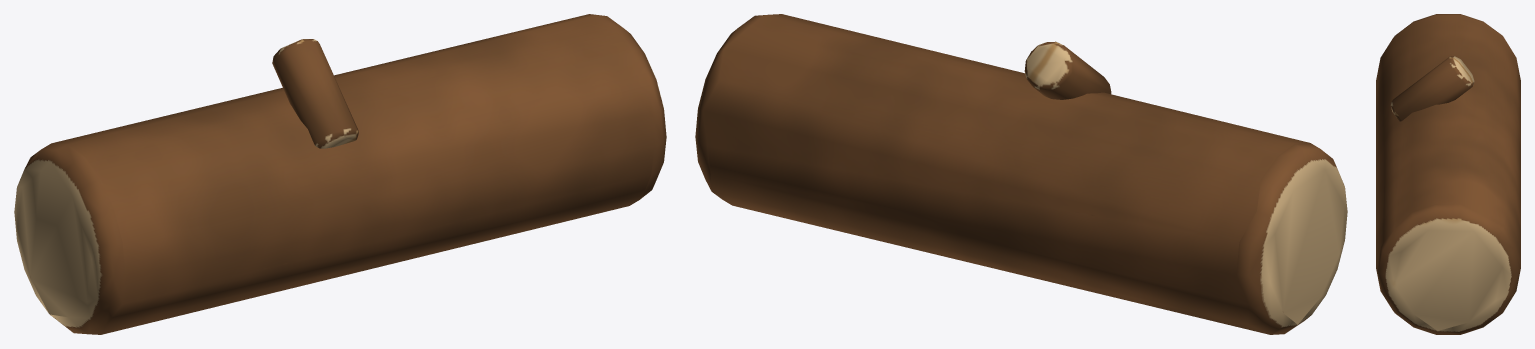
Rendered from item_log.glb.
3 renders of one model, left to right at view 1: azimuth 30°, elevation 25°; view 2: azimuth 150°, elevation 25°; view 3: azimuth 270°, elevation 25°, orthographic. The views are drawn at different scales.
Parts seen in each view (by area): view 1: log; view 2: log; view 3: log.
Boxes of the visible parts, x1=… form: log: x1=14, y1=14, x2=666, y2=334; log: x1=695, y1=14, x2=1347, y2=334; log: x1=1376, y1=14, x2=1520, y2=334.
Size of the model in its own units: 0.8001 by 0.3079 by 0.24.
1 material, 1 textured.
